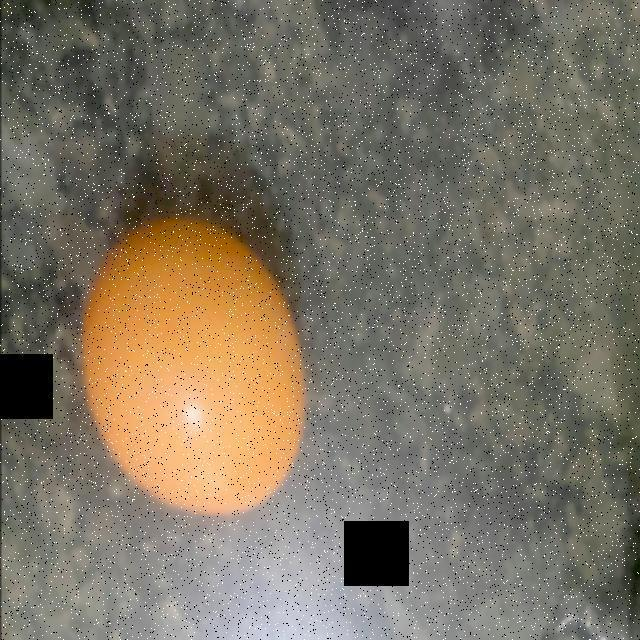egg: (71, 204, 316, 522)
